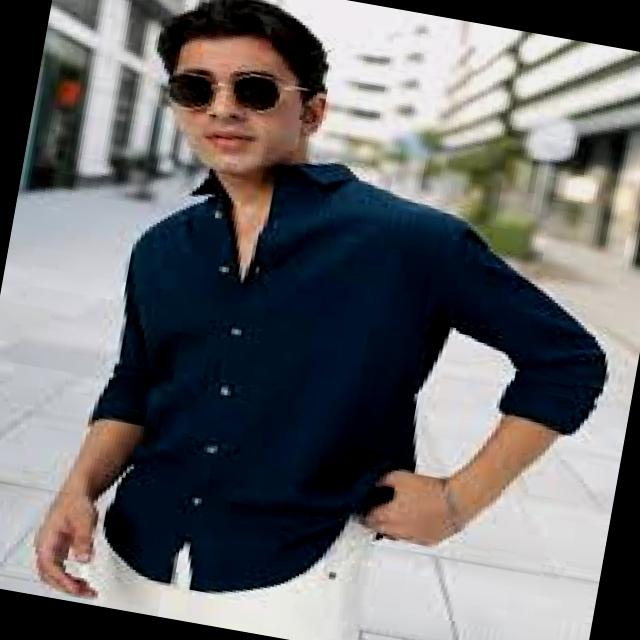face: (171, 35, 326, 178)
lower-wear: (82, 516, 376, 639)
top-wear: (89, 162, 607, 592)
